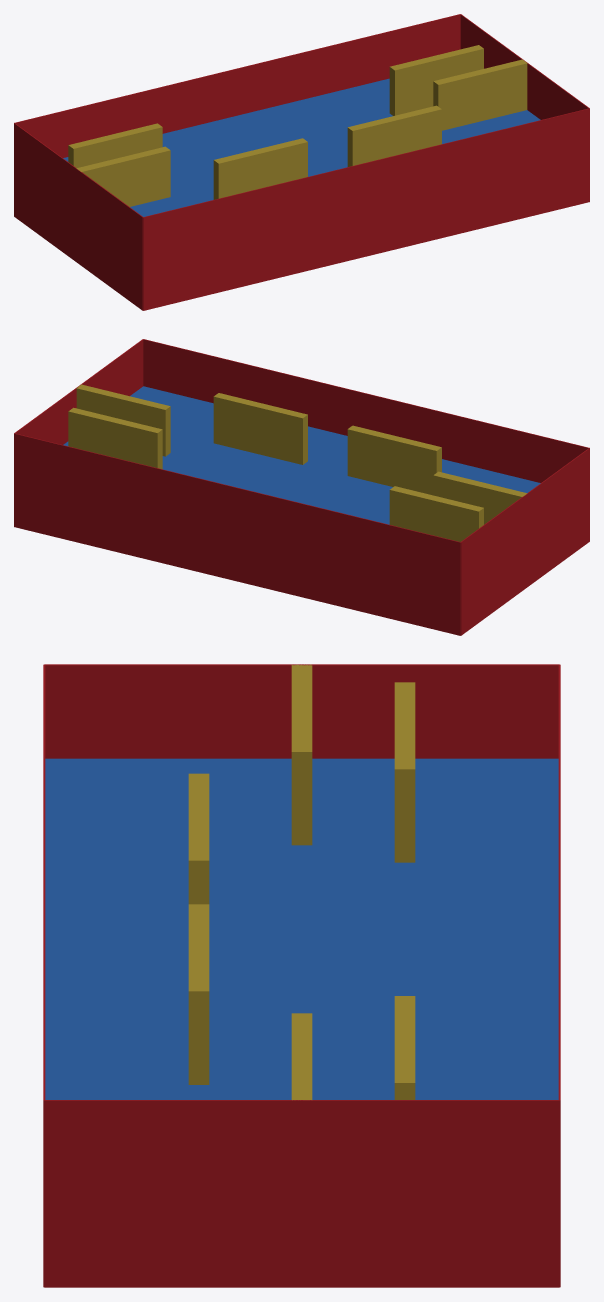
Rendered from map.obj.
3 renders of one model, top to bottom at view 1: azimuth 30°, elevation 25°; view 2: azimuth 150°, elevation 25°; view 3: azimuth 270°, elevation 25°, orthographic. The views are drawn at different scales.
Visible parts, largest first — view 1: Cube.001, Cube, Plane, Cube.003, Cube.005, Cube.009, Cube.008, Cube.006, Cube.004, Cube.002, Cube.007; view 2: Cube, Cube.001, Plane, Cube.003, Cube.008, Cube.009, Cube.006, Cube.002, Cube.007, Cube.005, Cube.004; view 3: Plane, Cube.002, Cube.003, Cube.004, Cube.008, Cube.007, Cube.009, Cube.006, Cube.005, Cube.001, Cube.
Boxes of the visible parts, left/top/right/bottom form: Cube.001: left=143, top=108, right=589, bottom=310; Cube: left=14, top=14, right=460, bottom=157; Plane: left=63, top=78, right=540, bottom=216; Cube.003: left=14, top=123, right=143, bottom=310; Cube.005: left=433, top=59, right=527, bottom=130; Cube.009: left=213, top=138, right=307, bottom=199; Cube.008: left=347, top=105, right=441, bottom=166; Cube.006: left=389, top=45, right=483, bottom=115; Cube.004: left=76, top=146, right=170, bottom=206; Cube.002: left=460, top=14, right=589, bottom=201; Cube.007: left=68, top=123, right=162, bottom=167; Cube: left=14, top=433, right=460, bottom=635; Cube.001: left=143, top=339, right=589, bottom=482; Plane: left=63, top=386, right=540, bottom=524; Cube.003: left=460, top=448, right=589, bottom=635; Cube.008: left=213, top=393, right=307, bottom=464; Cube.009: left=347, top=425, right=441, bottom=495; Cube.006: left=68, top=407, right=162, bottom=469; Cube.002: left=14, top=339, right=143, bottom=526; Cube.007: left=389, top=486, right=483, bottom=541; Cube.005: left=76, top=384, right=170, bottom=456; Cube.004: left=433, top=471, right=527, bottom=524; Plane: left=45, top=758, right=558, bottom=1099; Cube.002: left=44, top=1100, right=559, bottom=1287; Cube.003: left=44, top=664, right=559, bottom=758; Cube.004: left=291, top=664, right=312, bottom=845; Cube.008: left=188, top=904, right=209, bottom=1084; Cube.007: left=394, top=682, right=415, bottom=862; Cube.009: left=188, top=773, right=209, bottom=904; Cube.006: left=394, top=996, right=415, bottom=1099; Cube.005: left=291, top=1013, right=312, bottom=1100; Cube.001: left=43, top=664, right=45, bottom=1287; Cube: left=558, top=664, right=560, bottom=1287.
Bounding box in the file's own units: 1002 × 200 × 502.
